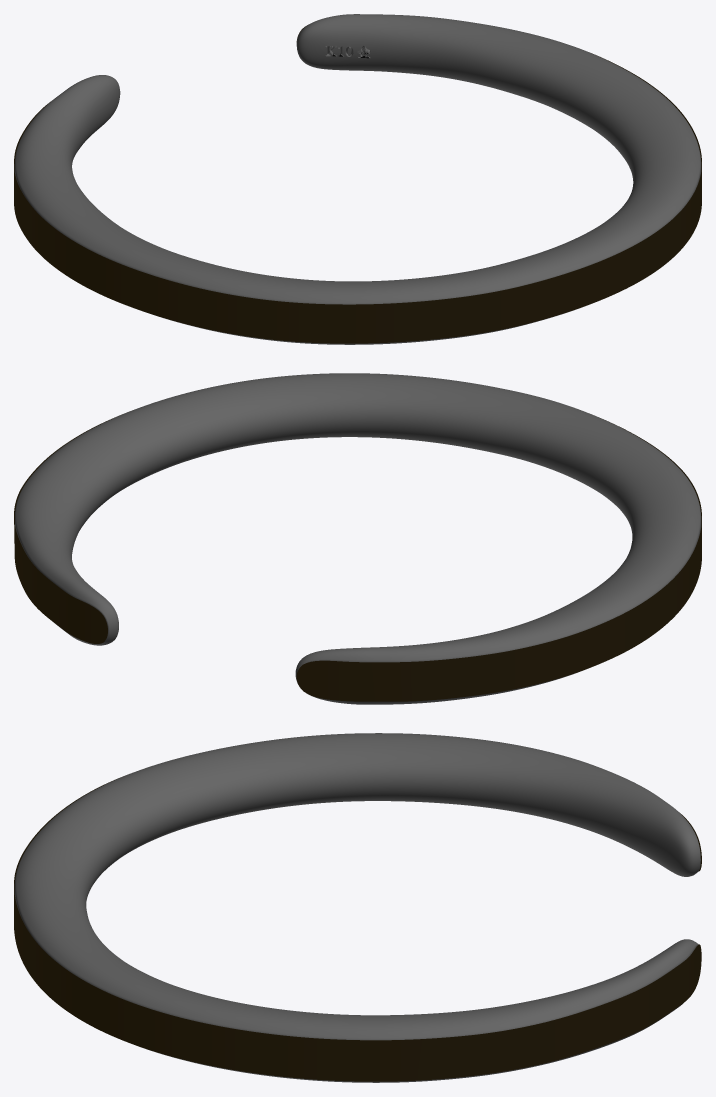
The model's file is ring-brack.glb.
3 views of the same model, one above another, from view 1: azimuth 30°, elevation 25°; view 2: azimuth 150°, elevation 25°; view 3: azimuth 270°, elevation 25° (orthographic). The views are drawn at different scales.
Visible parts, largest first — view 1: ring-body.002, ring-body.003; view 2: ring-body.002, ring-body.003; view 3: ring-body.002, ring-body.003.
Part boxes in pixels (box(x1,y1,x2,y2)): ring-body.002: box(14, 14, 701, 344); ring-body.003: box(14, 25, 701, 343); ring-body.002: box(15, 373, 701, 704); ring-body.003: box(14, 412, 701, 701); ring-body.002: box(14, 733, 700, 1082); ring-body.003: box(14, 776, 701, 1081).
Size of the model in its own units: 0.5126 by 0.0444 by 0.4867.
2 materials, 2 textured.
